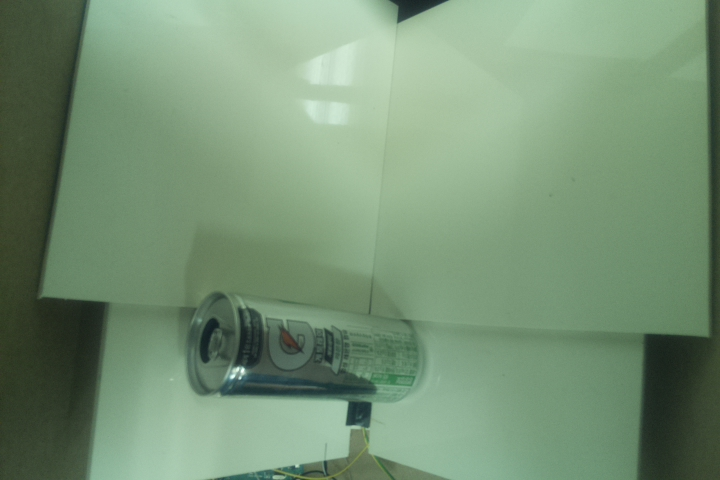can: (182, 289, 430, 407)
